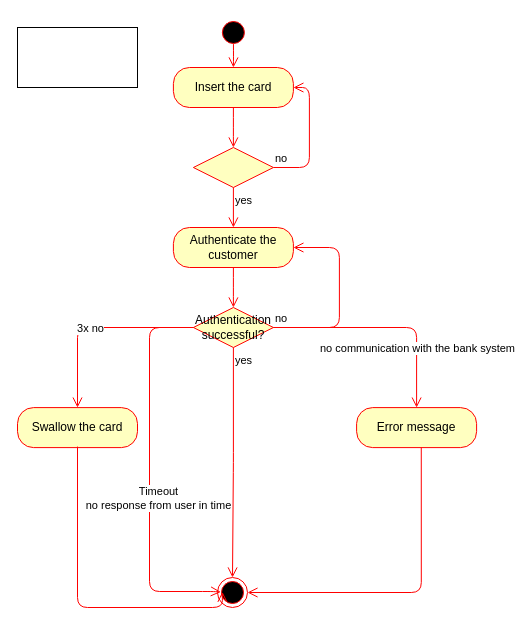
This 532x635 diagram has some shape labels left out. The centre of each missing label's shape, as x and y in pixels:
Can it be inserted?: the point at 232,167
User Authentication: the point at 77,57
